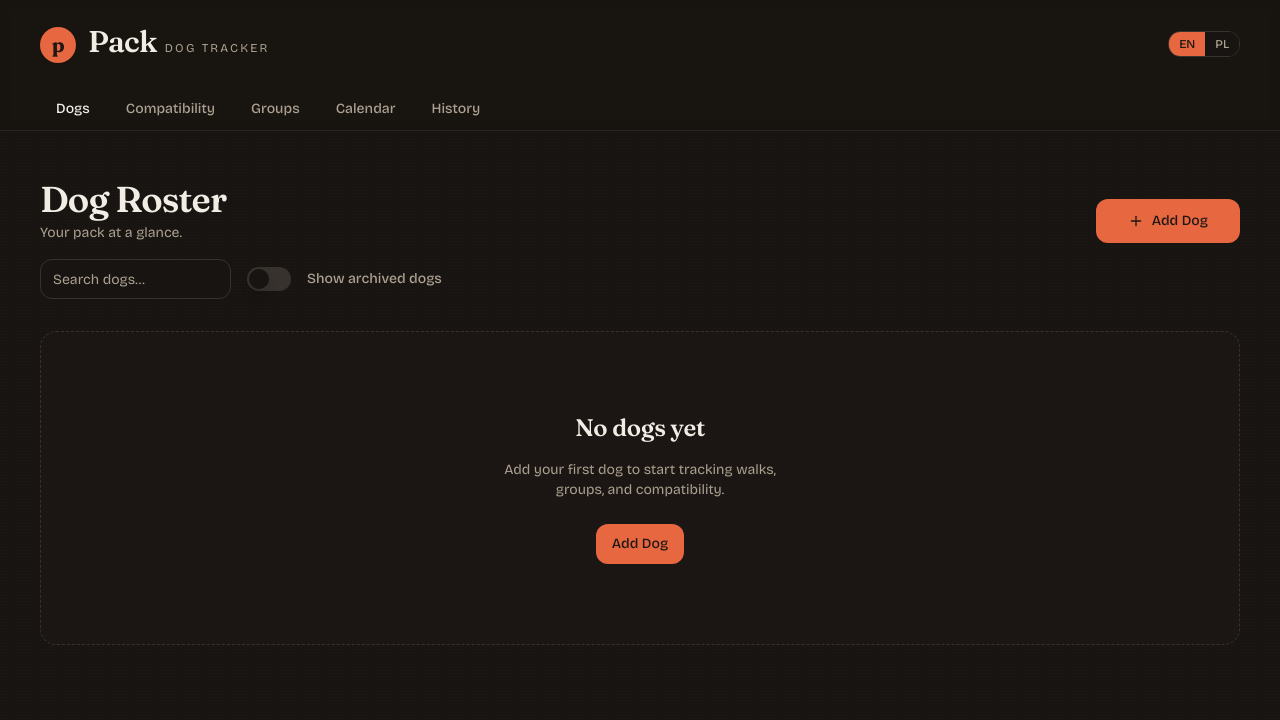
it: App tab bar › clicking Dogs tab shows DogRoster content
The width and height of the screenshot is (1280, 720).
Start on dogs tab, go to compatibility then back
Click the tab "Compatibility": (170, 110) x1=110 y1=87 x2=231 y2=133
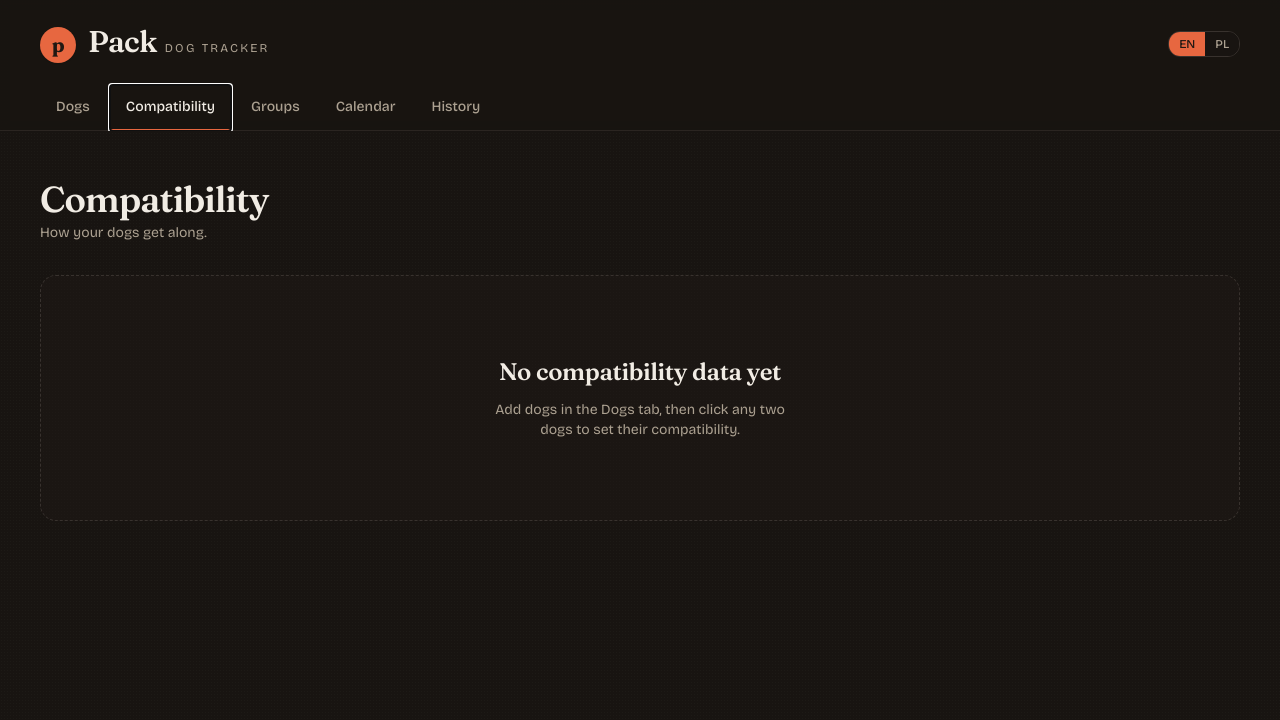
Click the tab "Dogs": (73, 108) x1=40 y1=85 x2=106 y2=131
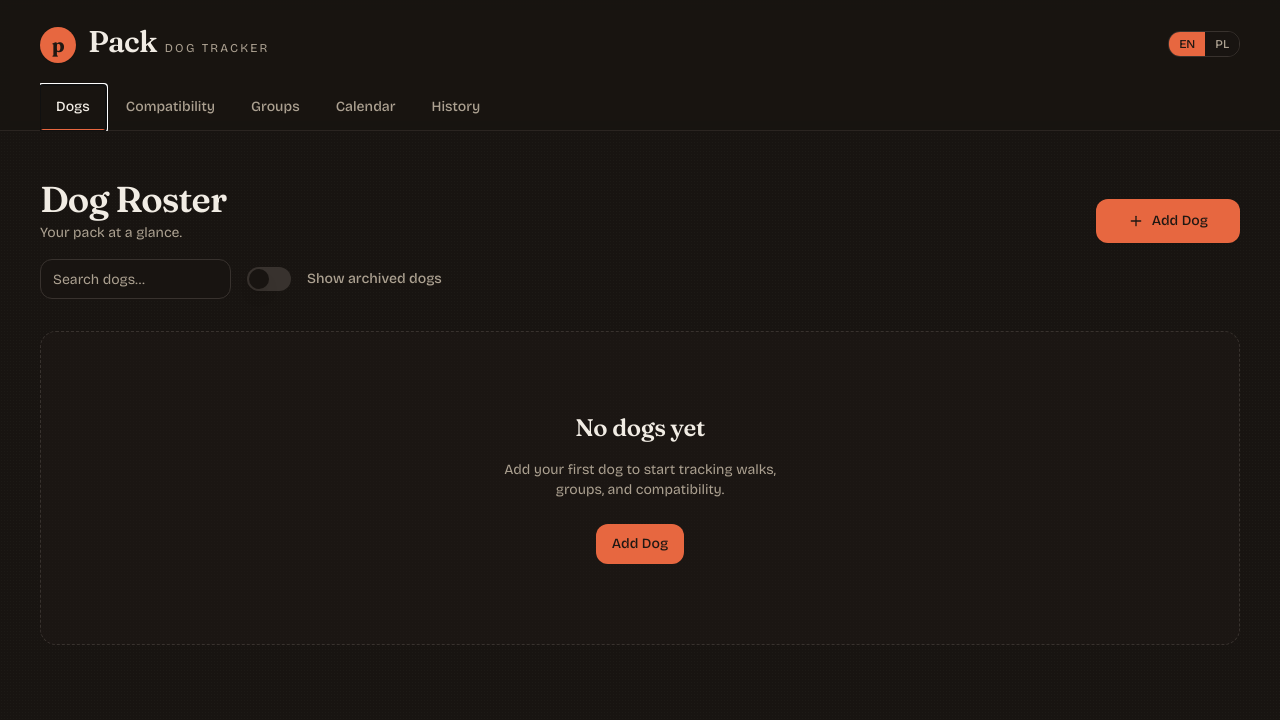
Check: the heading "No dogs yet" is shown, box x1=575 y1=412 x2=705 y2=444
